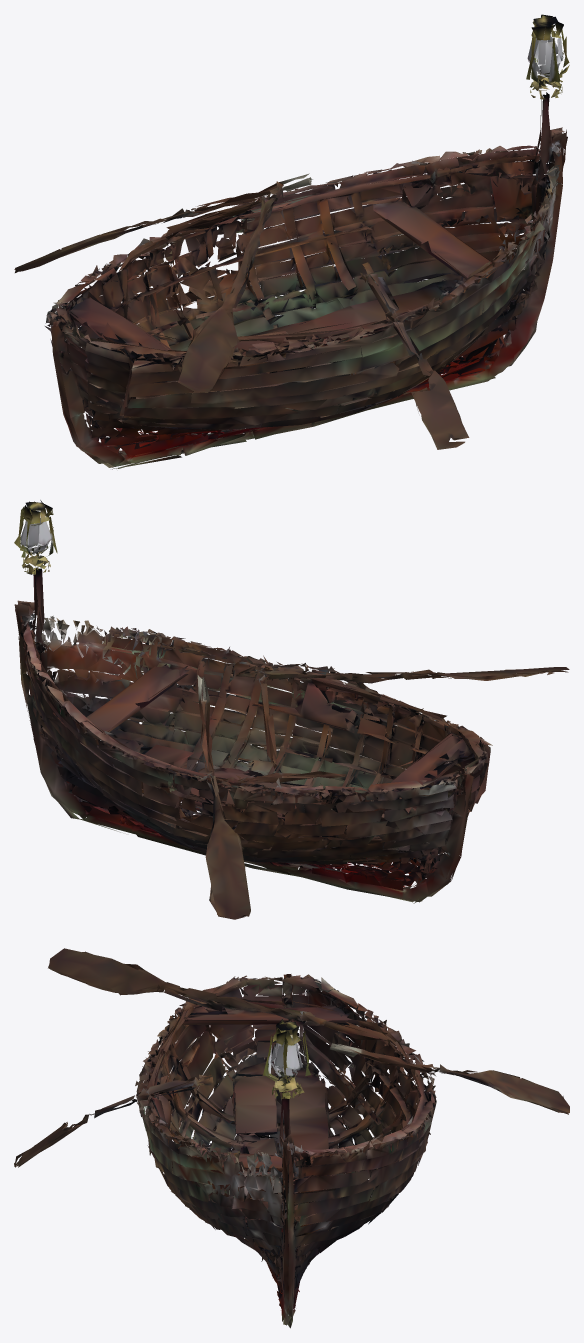
Rendered from rowing_boat.glb.
3 renders of one model, top to bottom at view 1: azimuth 30°, elevation 25°; view 2: azimuth 150°, elevation 25°; view 3: azimuth 270°, elevation 25°, orthographic. The views are drawn at different scales.
Parts seen in each view (by area): view 1: rowing_boat_body; view 2: rowing_boat_body; view 3: rowing_boat_body.
Part boxes in pixels (left/top/right/bottom): rowing_boat_body: left=14, top=14, right=569, bottom=469; rowing_boat_body: left=14, top=500, right=569, bottom=919; rowing_boat_body: left=14, top=948, right=569, bottom=1328.
Bounding box in the file's own units: 4.42 × 2.86 × 4.37.
1 material, 1 textured.
